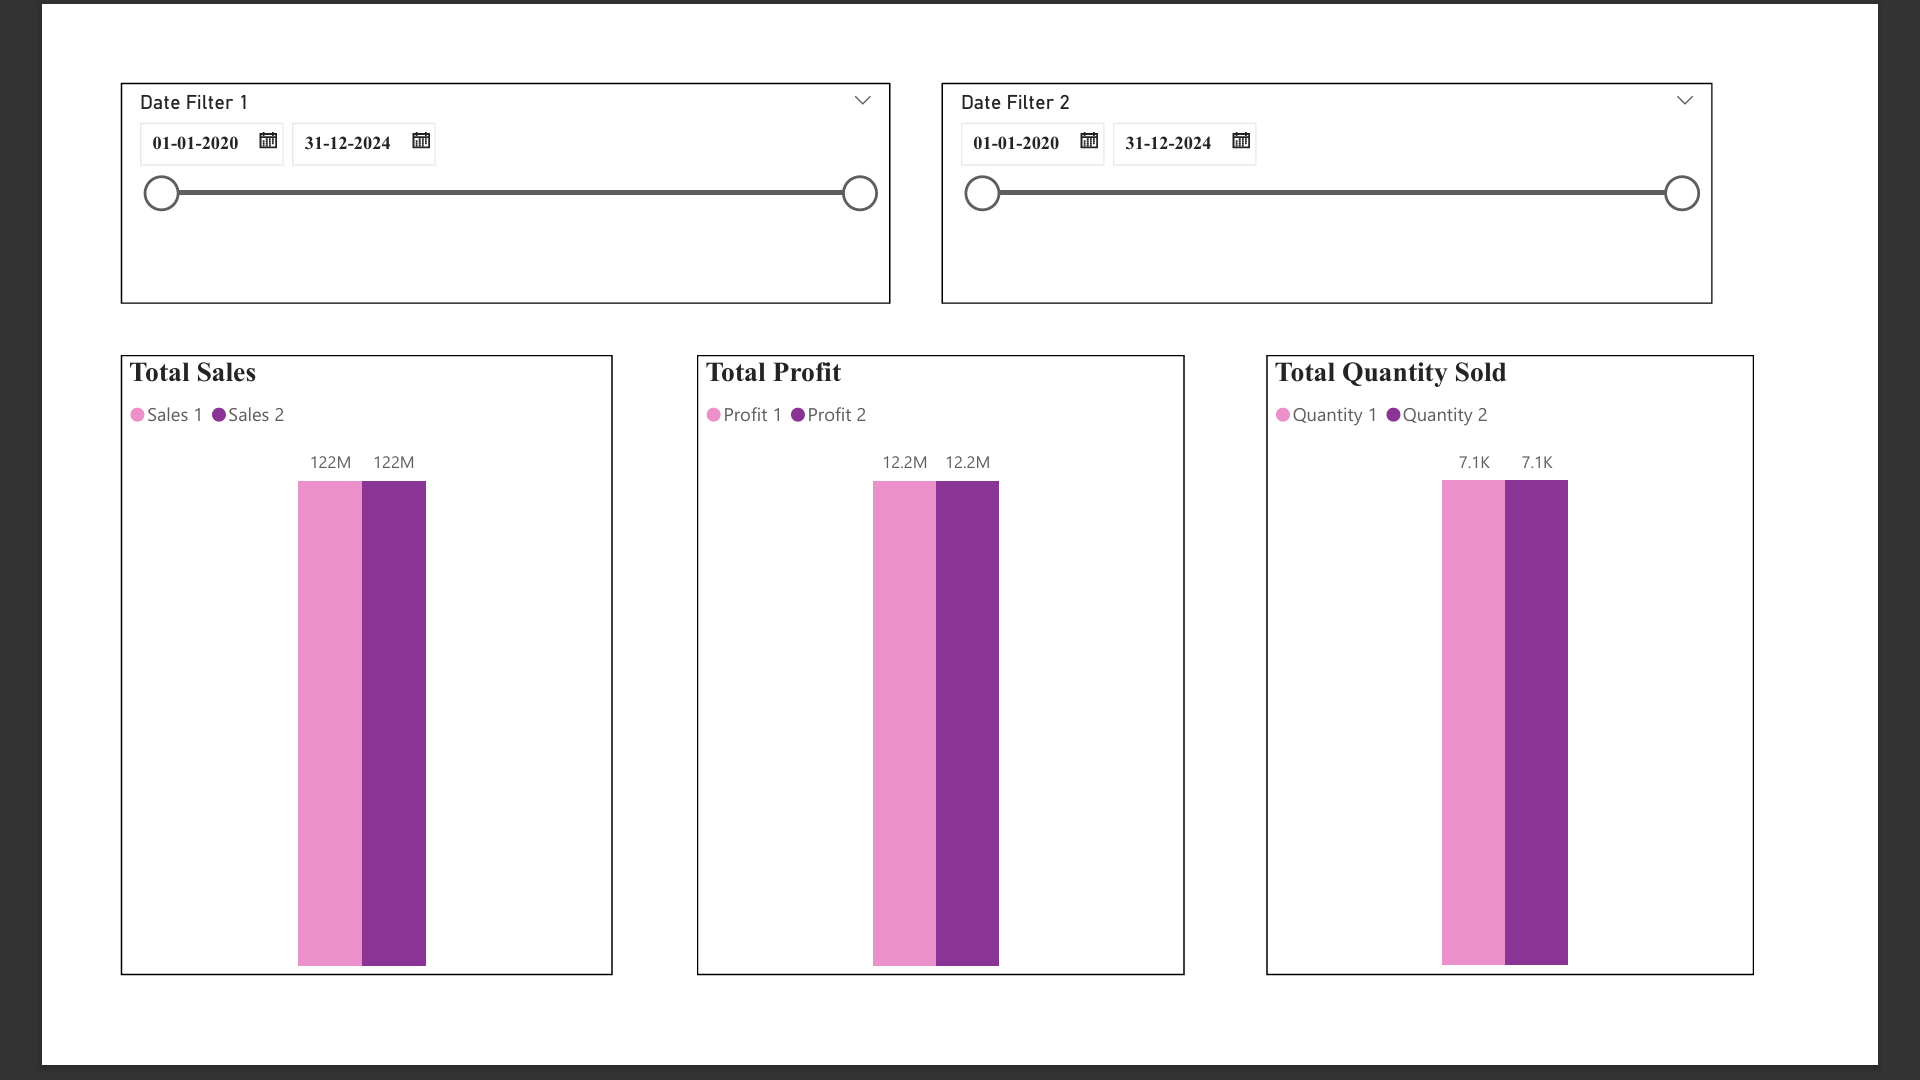

What the dashboard file says about the page in this screenshot:
{"tool":"powerbi","page":{"name":"Comparison Sales/Profit/Quantity","canvas":[1280,720],"ordinal":2},"visuals":[{"type":"slicer","fields":{"Values":["Date Table 1.Date"]},"box":[32.9,32.9,557.1,160.5],"z":0},{"type":"slicer","fields":{"Values":["Date Table 2.Date"]},"box":[627.3,33,557.6,160.2],"z":1000},{"type":"clusteredColumnChart","title":"Total Sales","fields":{"Y":["Sum(Fact Table.Net Sales)","Measures (2).Sum Of Net Sales"]},"box":[33,229.9,355.8,448.8],"z":2000},{"type":"clusteredColumnChart","title":"Total Profit","fields":{"Y":["Sum(Fact Table.Profit)","Measures (2).Total Profit"]},"box":[450,229.9,353.4,448.8],"z":3000},{"type":"clusteredColumnChart","title":"Total Quantity Sold","fields":{"Y":["Measures (2).Quantity Sold","Sum(Fact Table.Units Sold)"]},"box":[862.1,229.9,353.4,448.8],"z":4000}]}

Visuals, with their boxes in screenshot pixels (x1, y1, x2, y2), scaled from the page's 1280x720 canvas onto the 1920x1080 screenshot:
slicer - Date Table 1.Date: 49,49,885,290
slicer - Date Table 2.Date: 941,50,1777,290
"Total Sales" clusteredColumnChart: 50,345,583,1018
"Total Profit" clusteredColumnChart: 675,345,1205,1018
"Total Quantity Sold" clusteredColumnChart: 1293,345,1823,1018
